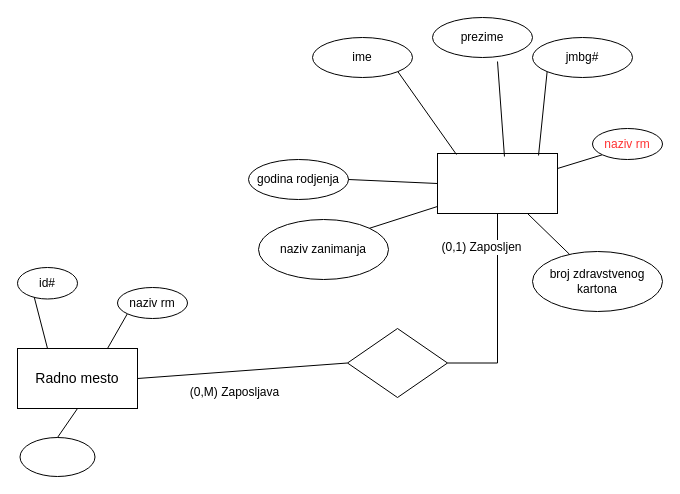
The diagram is 680 pixels wide and 494 high, and some of its shapes have lost their labels. Each missing label, with the centre of its shape:
opis poslova: point (57, 456)
Radi: point (397, 363)
Zaposleni: point (497, 183)
